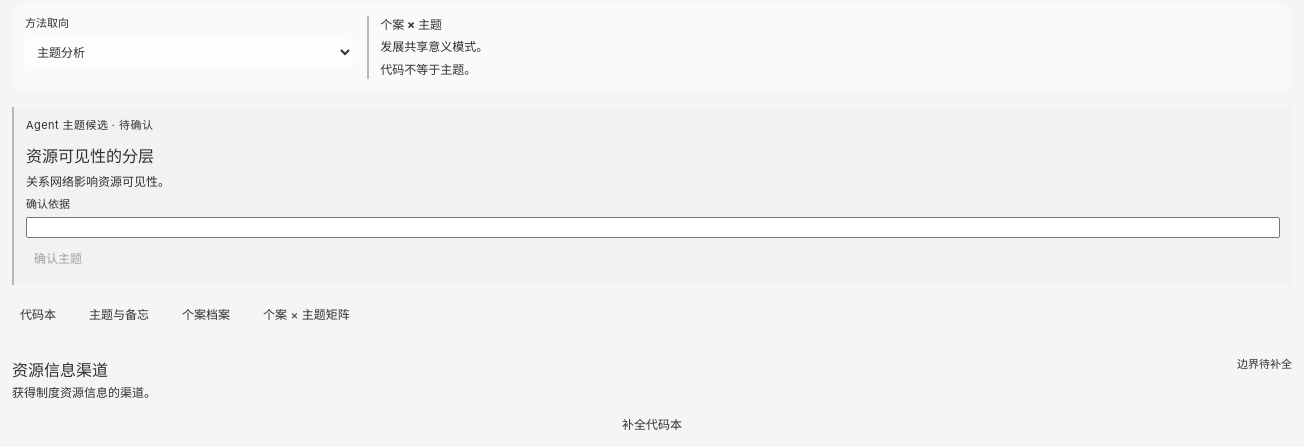
Scenario: QualitativeWorkspacePanel › changes only the method view preset and keeps its methodological guardrail visible
Expected: the text "代码不等于主题。" is shown, [380,62,476,77]
Select "个案研究" in the dropdown labelled "方法取向" at (189, 52), box [25,37,353,68]
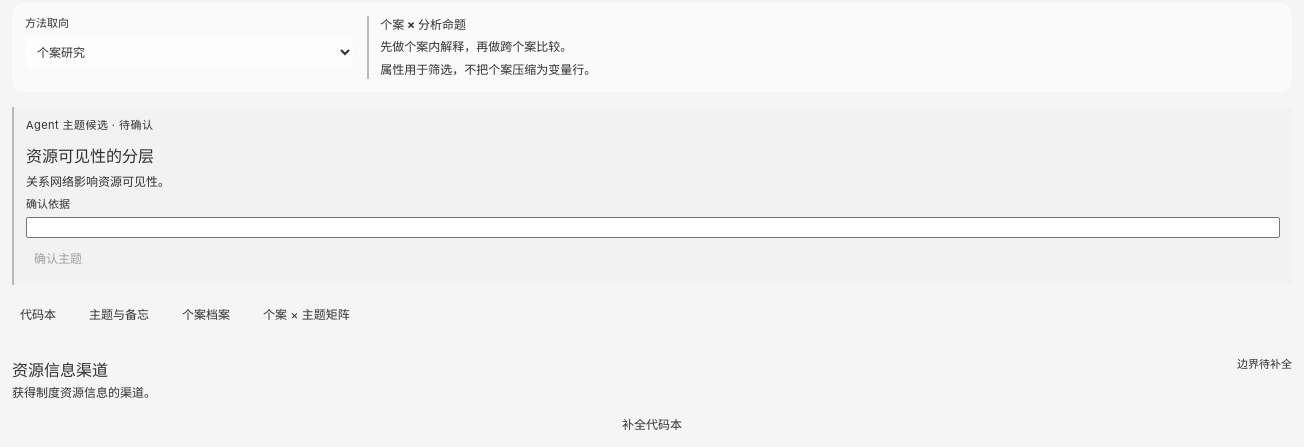
Result: the text "先做个案内解释，再做跨个案比较。" is shown at [380,39,572,54]
Result: the text "属性用于筛选，不把个案压缩为变量行。" is shown at [380,62,596,77]
